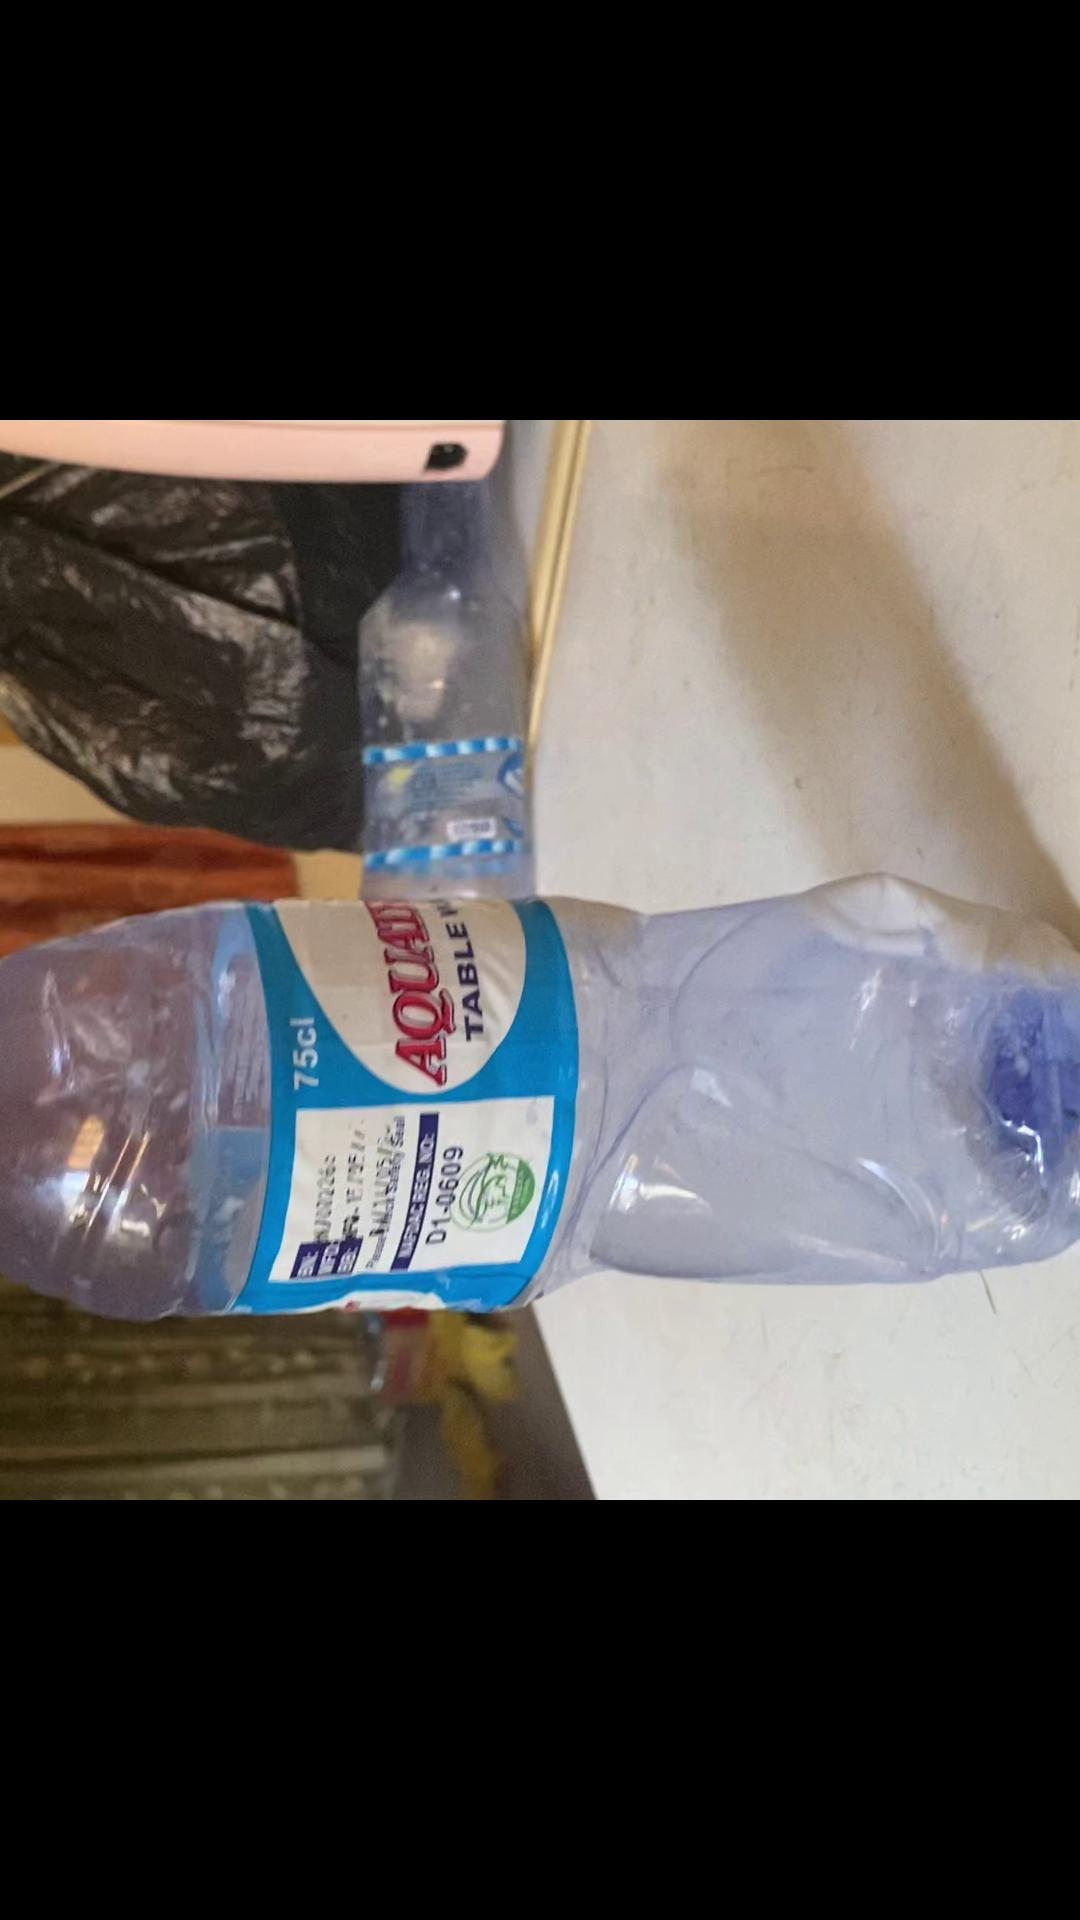crumbled: (0, 858, 1080, 1329)
label: (247, 894, 567, 1312)
